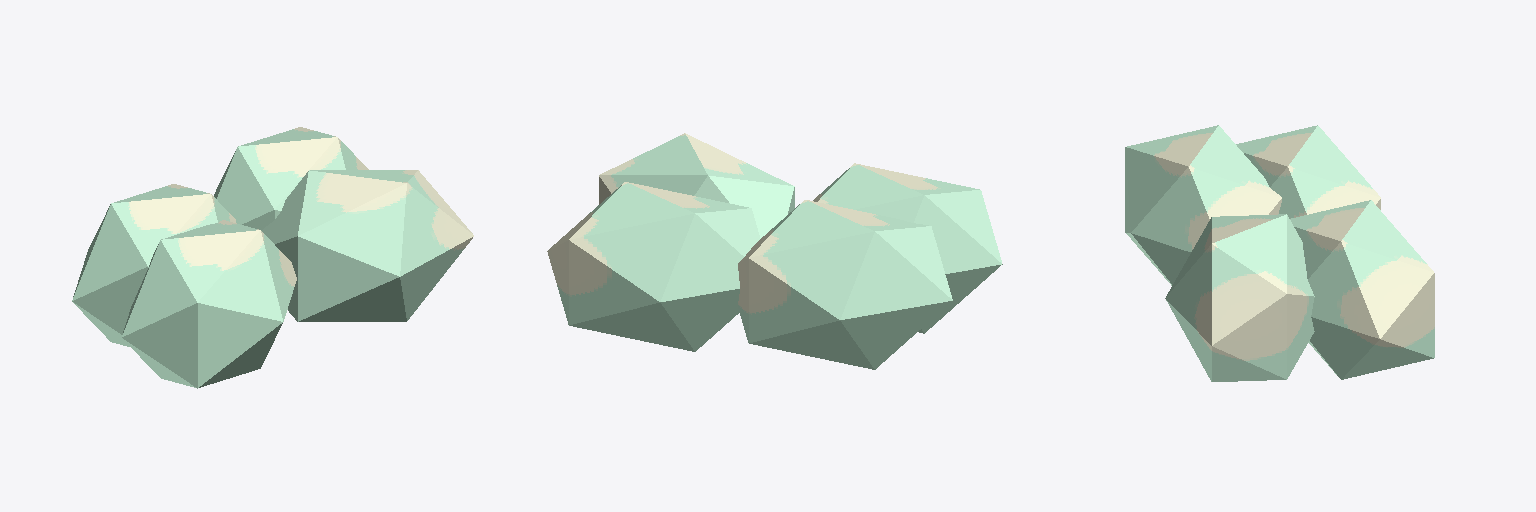
3 views of the same model, side by side, from view 1: azimuth 30°, elevation 25°; view 2: azimuth 150°, elevation 25°; view 3: azimuth 270°, elevation 25° (orthographic).
Visible parts, largest first — view 1: pPlatonic5; view 2: pPlatonic5; view 3: pPlatonic5.
Boxes of the visible parts, <box> form: pPlatonic5: <box>72,127,473,388</box>; pPlatonic5: <box>547,133,1002,369</box>; pPlatonic5: <box>1125,125,1434,381</box>.
Size of the model in its own units: 2.78 by 0.9985 by 2.02.
Materials: 1 (1 with a texture image).